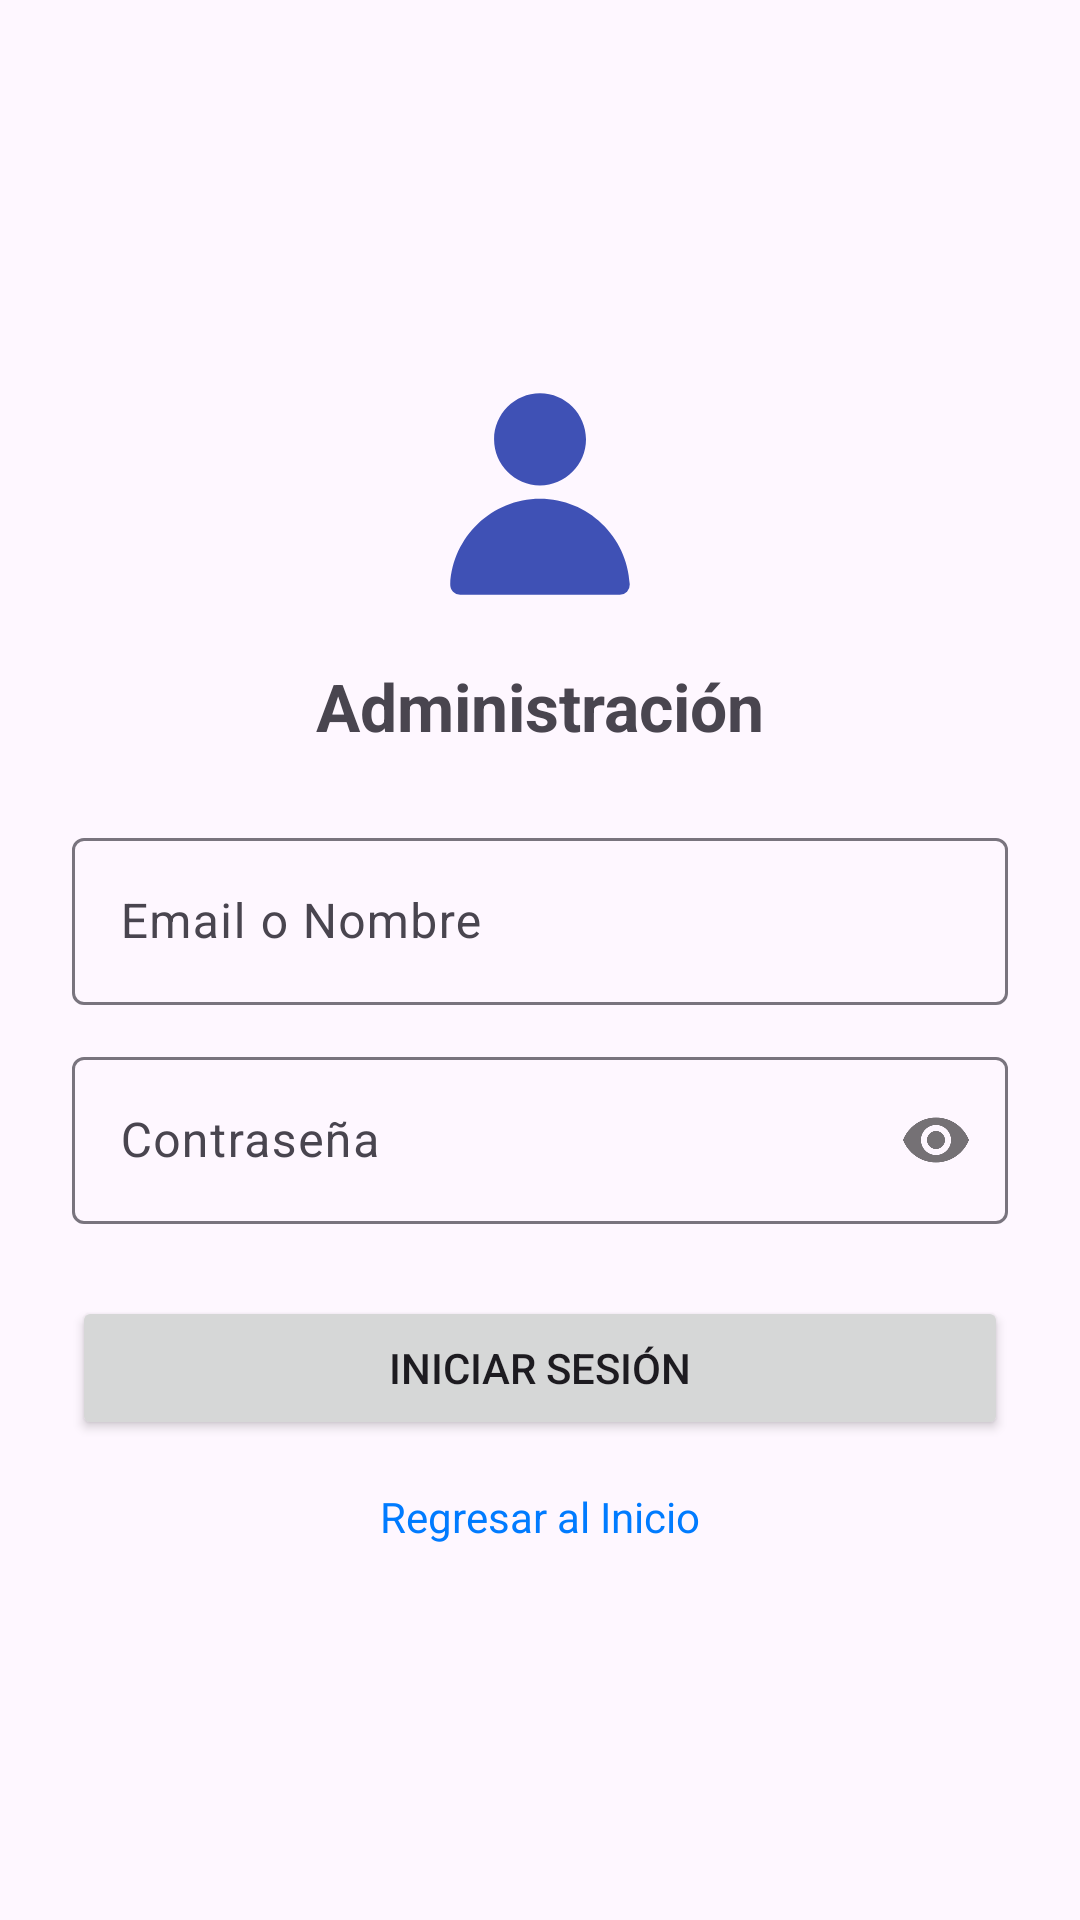

Screen size 1080 x 1920. Icon name, then its center in pixels as (x=x, y=y):
icono de administrador: (x=540, y=494)
